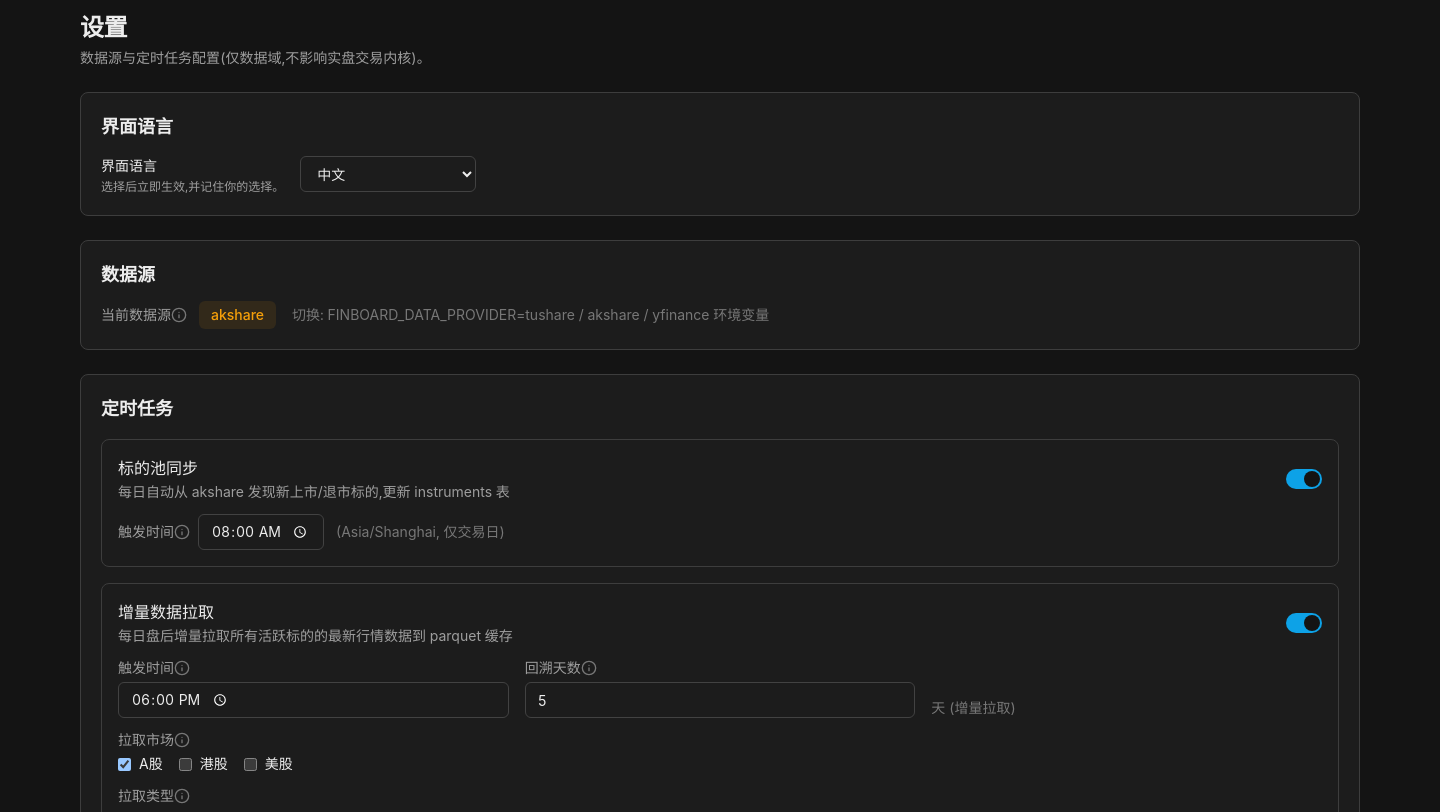
Scenario: 目标页面 InfoHint 接入 › 设置页展示数据源与定时任务说明
Click the button named "查看“行情数据源”说明".
click(179, 315)  # box [169,305,189,325]
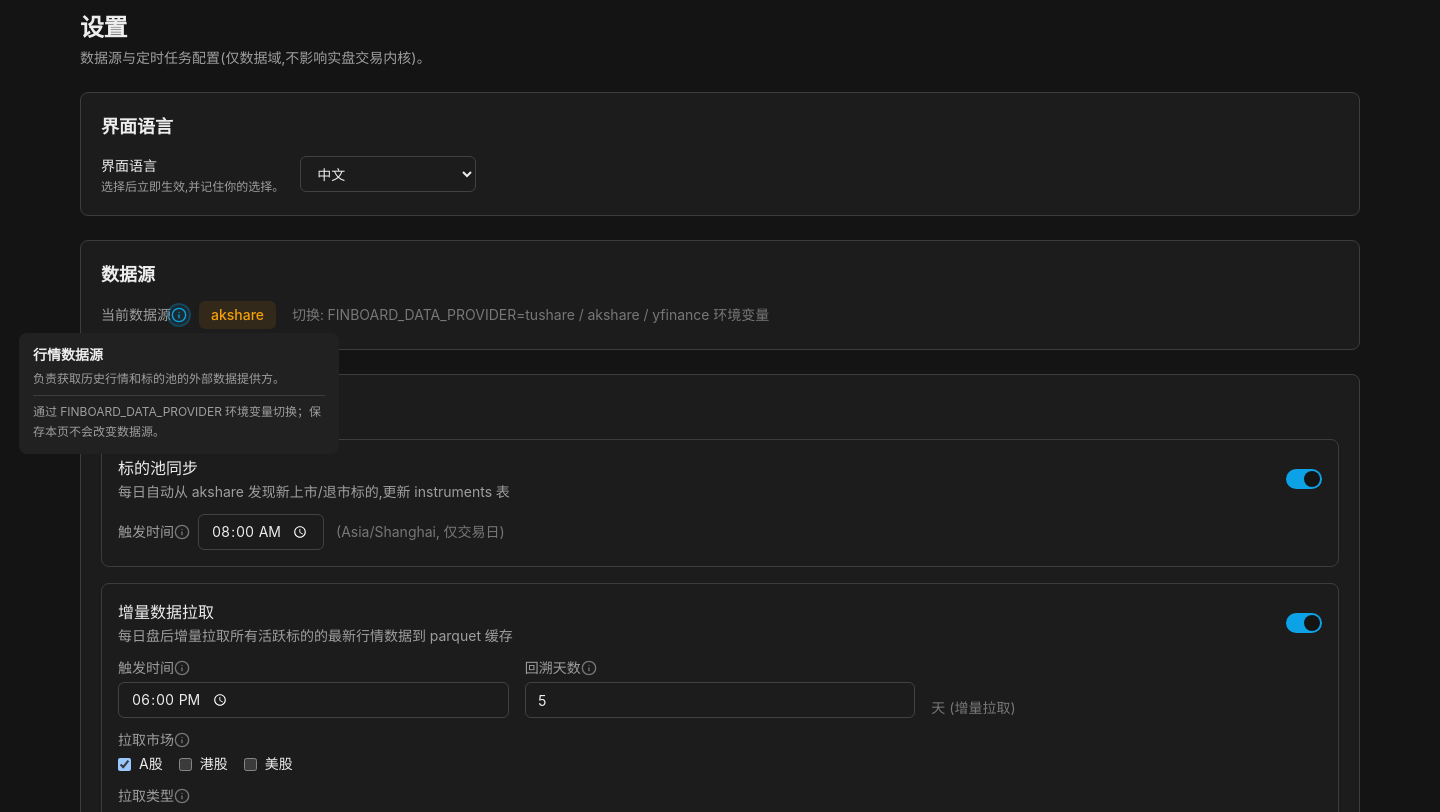
Expected: the tooltip shows "FINBOARD_DATA_PROVIDER", [33,404,321,439]
